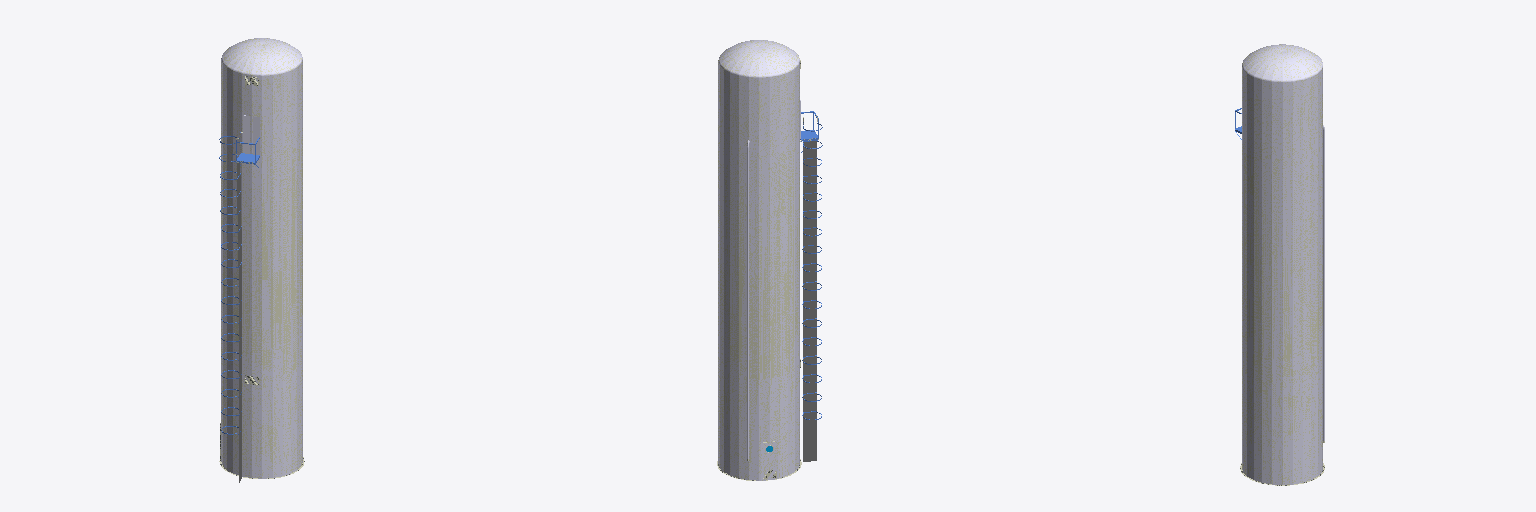
The picture shows the model from 3 angles: view 1: azimuth 30°, elevation 25°; view 2: azimuth 150°, elevation 25°; view 3: azimuth 270°, elevation 25°; orthographic projection.
Visible parts, largest first — view 1: mesh101_mesh101-geometry, mesh81_mesh81-geometry, mesh103_mesh103-geometry; view 2: mesh101_mesh101-geometry, mesh81_mesh81-geometry, mesh103_mesh103-geometry; view 3: mesh101_mesh101-geometry, mesh81_mesh81-geometry.
Boxes of the visible parts, <box> form: mesh101_mesh101-geometry: <box>219,138,304,478</box>; mesh81_mesh81-geometry: <box>221,38,302,154</box>; mesh103_mesh103-geometry: <box>239,264,241,482</box>; mesh101_mesh101-geometry: <box>717,140,801,480</box>; mesh81_mesh81-geometry: <box>718,40,799,156</box>; mesh103_mesh103-geometry: <box>803,245,816,461</box>; mesh101_mesh101-geometry: <box>1240,125,1324,485</box>; mesh81_mesh81-geometry: <box>1242,44,1322,160</box>.
Bounding box in the file's own units: 0.2137 × 0.9583 × 0.1895.
8 materials, 1 textured.